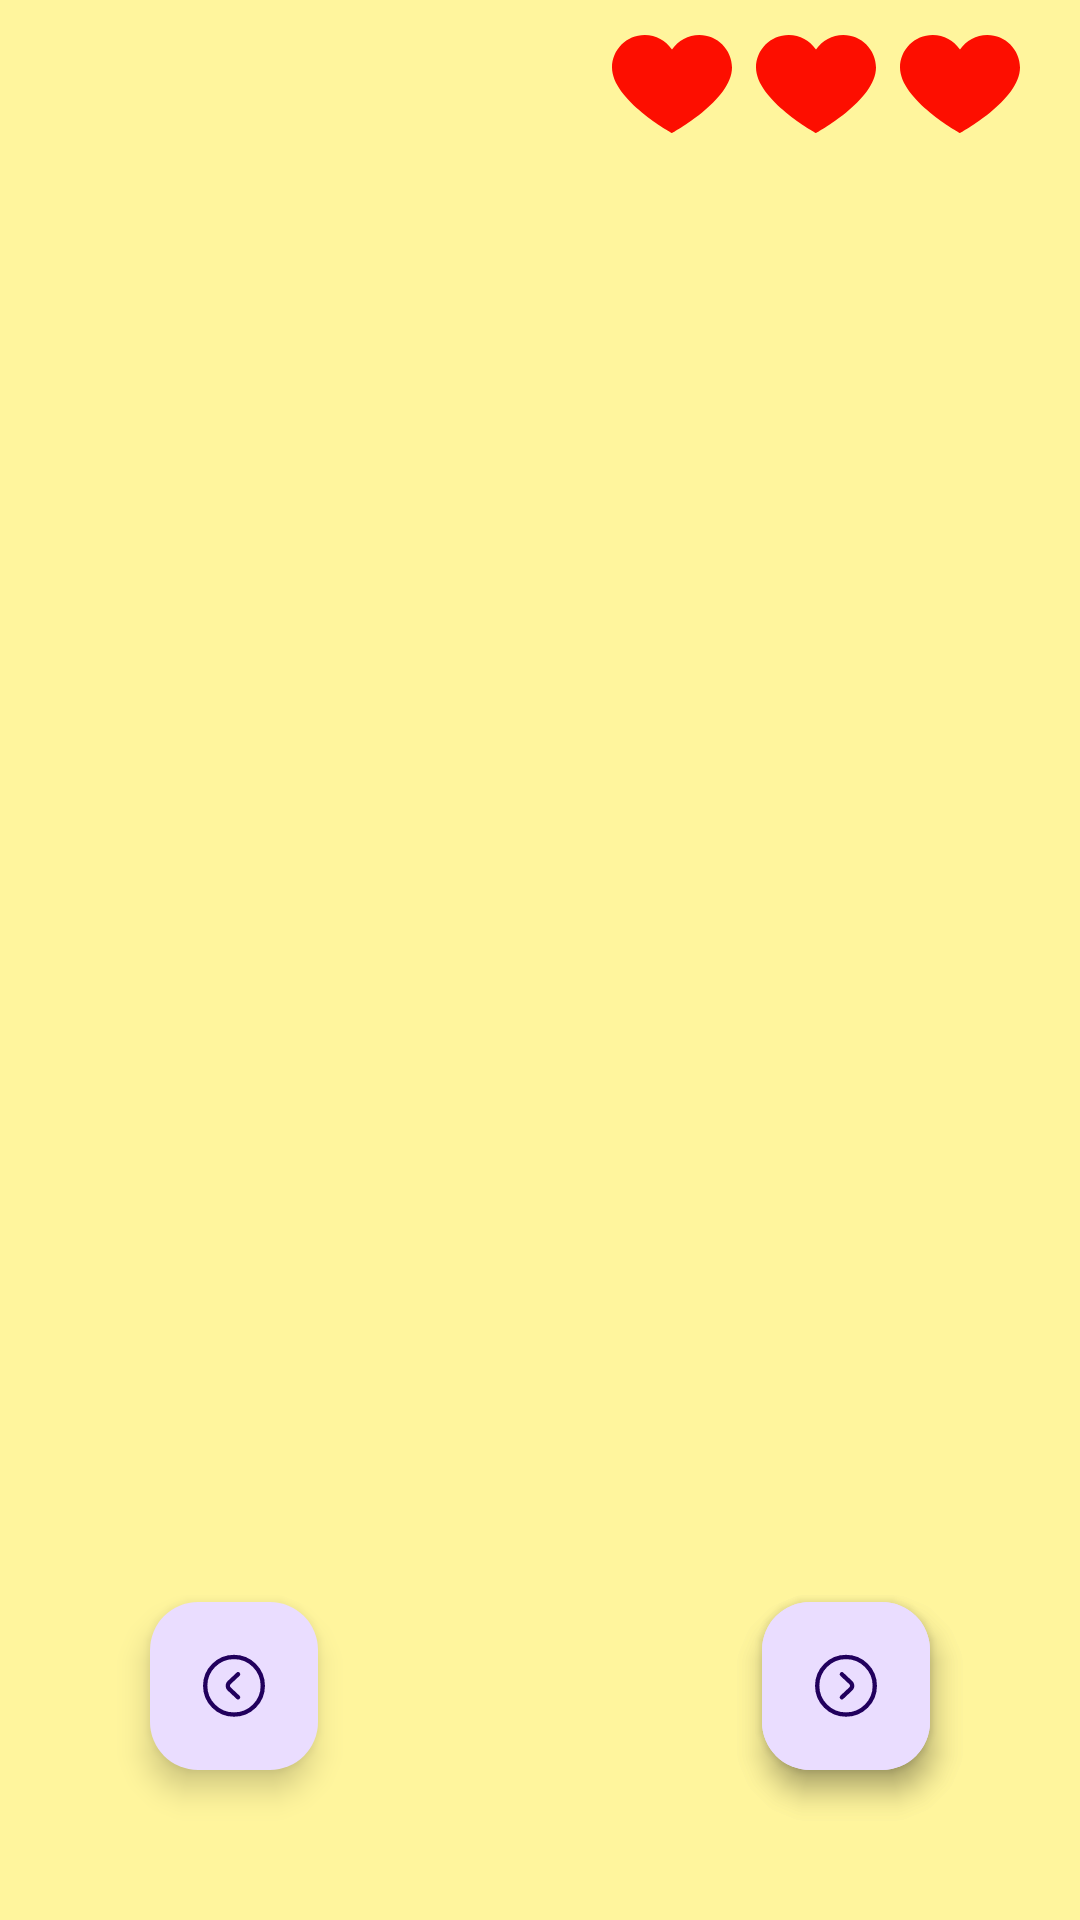

Locate icon controls on the screen. Image size 1080px×1920px, boxes as (x1, y1, x2, y2).
heart: (612, 35, 732, 133), (756, 35, 876, 133), (900, 35, 1020, 133)
left arrow: (150, 1602, 318, 1770)
